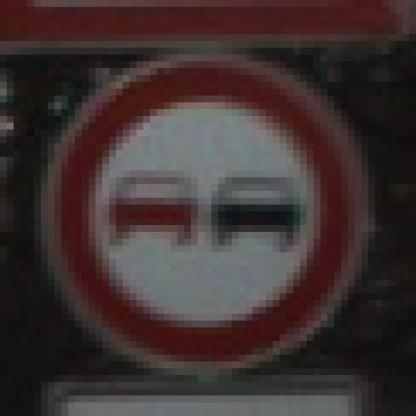No Overtaking: (35, 35, 383, 383)
